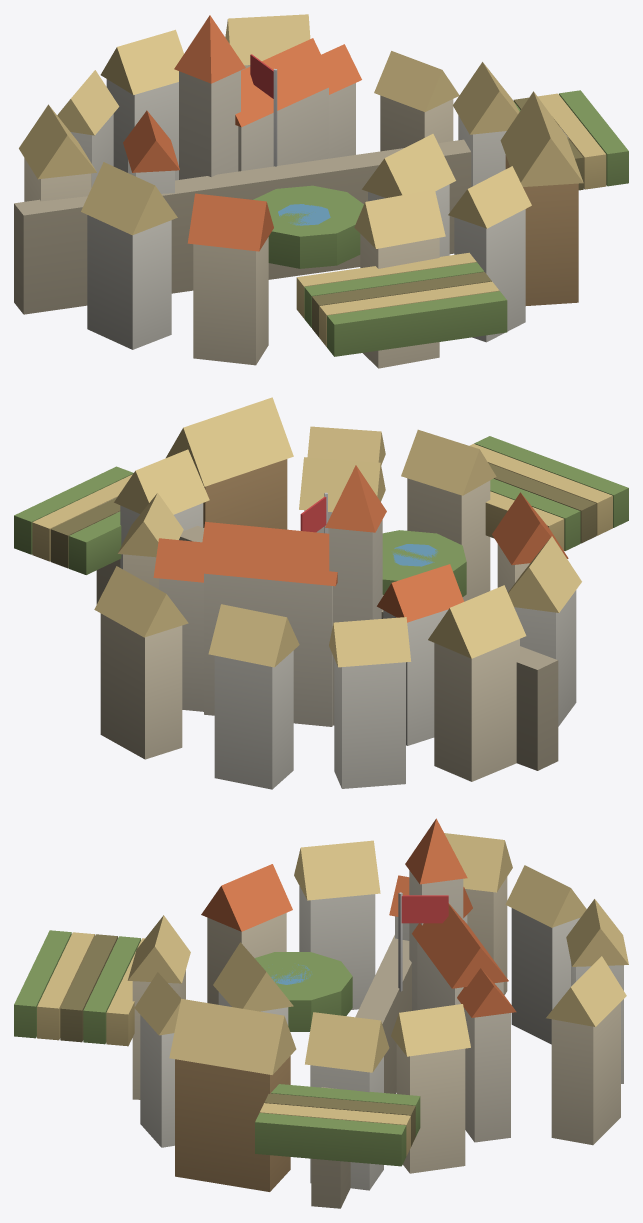
File: village_west_b.glb
3 views of the same model, one above another, from view 1: azimuth 30°, elevation 25°; view 2: azimuth 150°, elevation 25°; view 3: azimuth 270°, elevation 25° (orthographic). The views are drawn at different scales.
Visible parts, largest first — view 1: village_west_b; view 2: village_west_b; view 3: village_west_b.
Part boxes in pixels (x1,y1,x2,y2): village_west_b: (14, 14, 628, 368); village_west_b: (14, 397, 628, 789); village_west_b: (14, 818, 628, 1208).
Bounding box in the file's own units: 2.07 × 0.9021 × 2.05.
